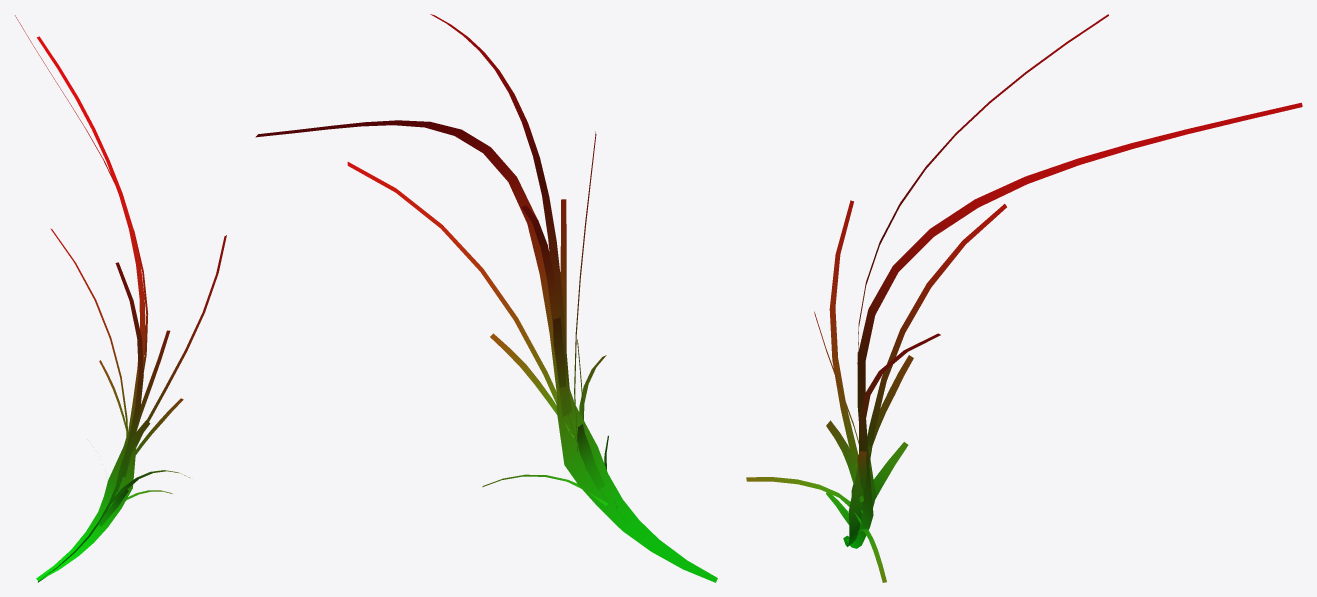
The model's file is Sea Wheatgrass_LOD0_Var15_ui2oagjia.fbx.
3 views of the same model, side by side, from view 1: azimuth 30°, elevation 25°; view 2: azimuth 150°, elevation 25°; view 3: azimuth 270°, elevation 25° (orthographic). The views are drawn at different scales.
Visible parts, largest first — view 1: _hzvr_Var15_LOD0; view 2: _hzvr_Var15_LOD0; view 3: _hzvr_Var15_LOD0.
Boxes of the visible parts, left/top/right/bottom form: _hzvr_Var15_LOD0: left=15, top=15, right=226, bottom=582; _hzvr_Var15_LOD0: left=255, top=14, right=717, bottom=582; _hzvr_Var15_LOD0: left=746, top=14, right=1302, bottom=582.
Size of the model in its own units: 22.41 by 42.61 by 36.35.
